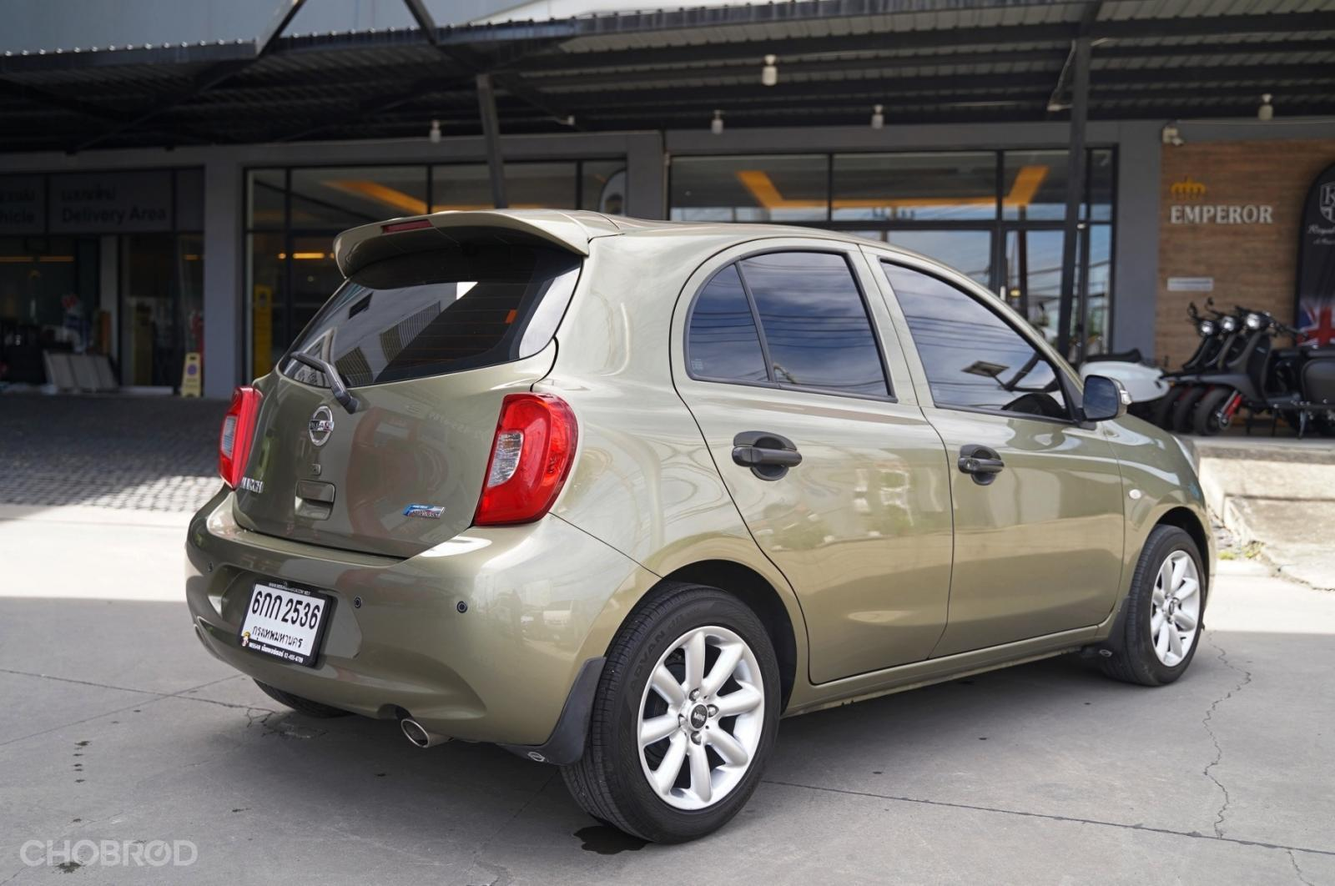license-plate: (230, 567, 345, 681)
